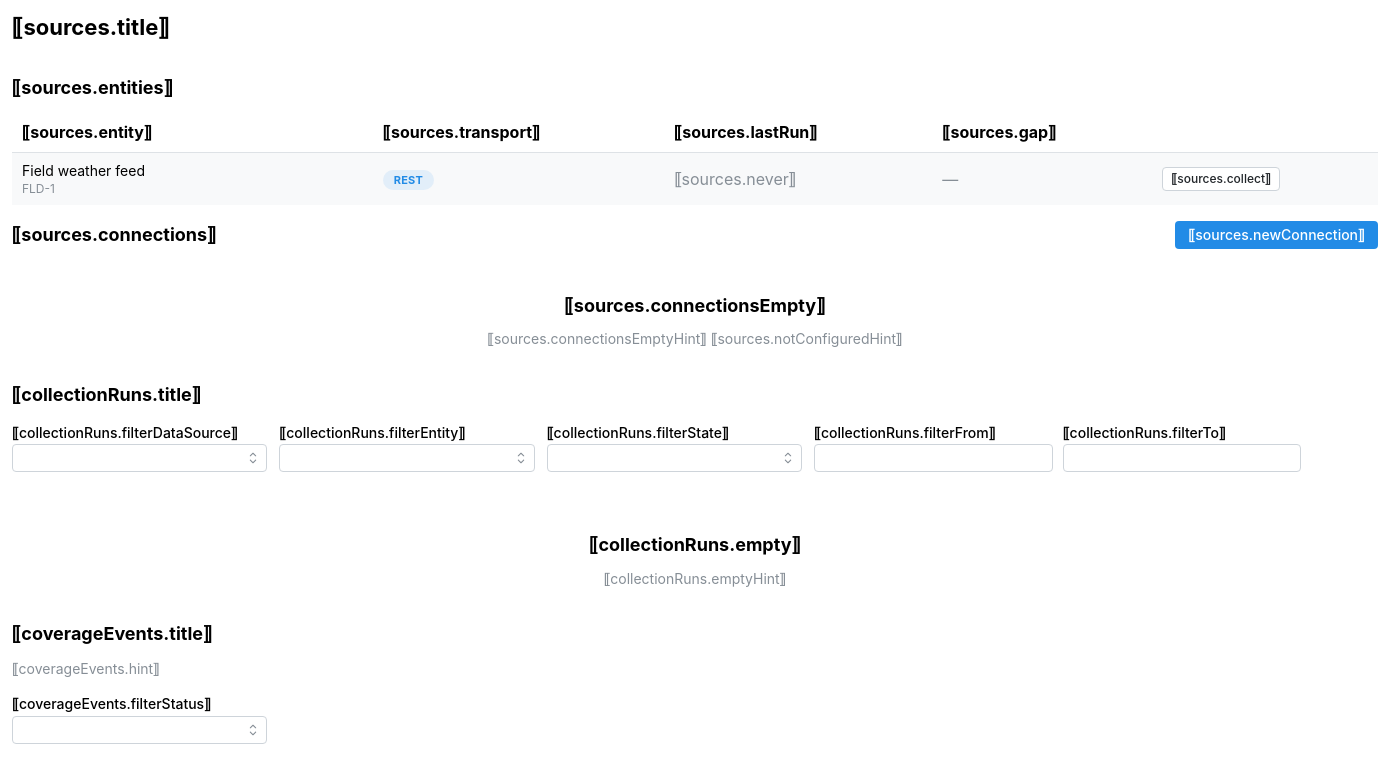
Test: SourcesPage: тост «Collection queued» веде до задачі › без System.ViewHealth — тост без посилання (не шлях у 403)
This screenshot has width=1390, height=780.
Check: the text "Field weather feed" is shown, box [22,162,145,179]
Click the button "⟦sources.collect⟧": (1221, 179) [1162,167,1280,191]
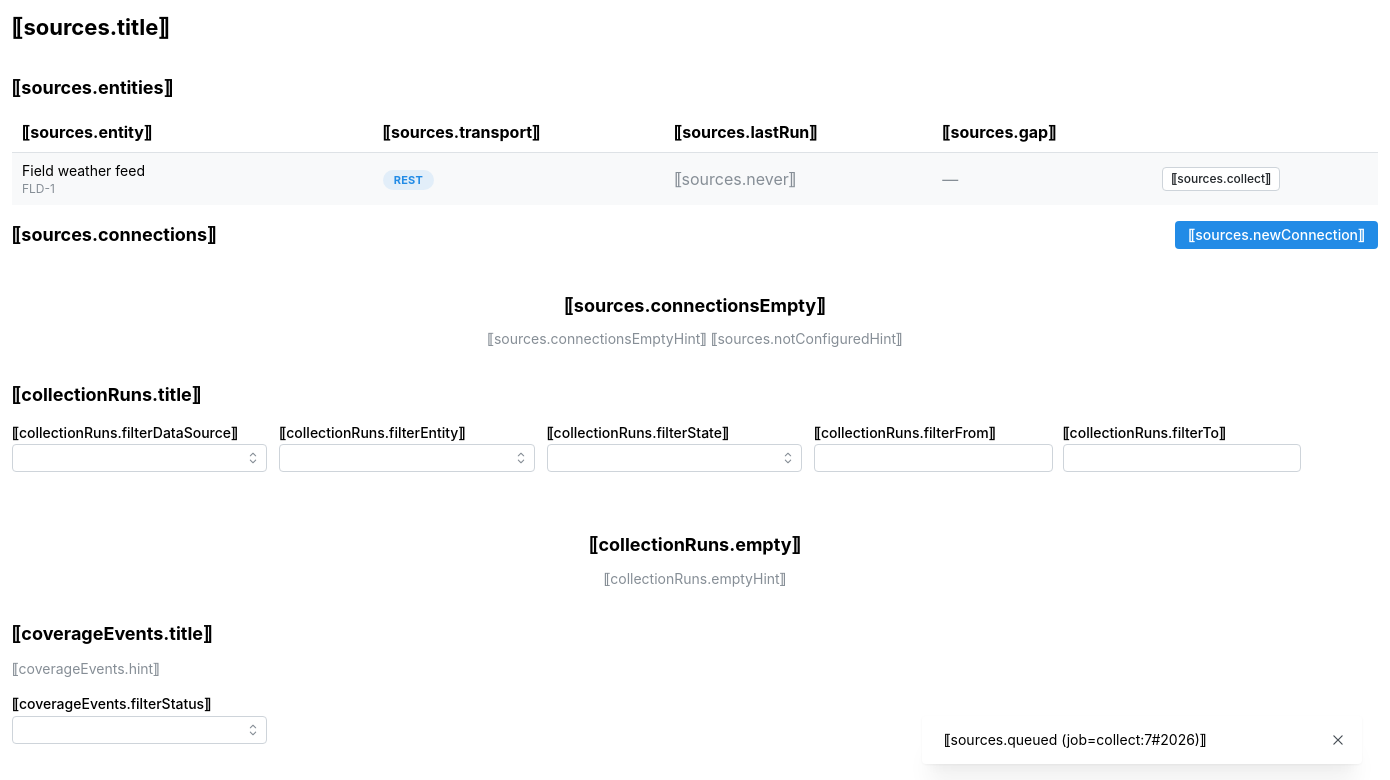
Check: the text "⟦sources.queued (job=collect:7#2026)⟧" is shown, box [944,731,1206,748]
